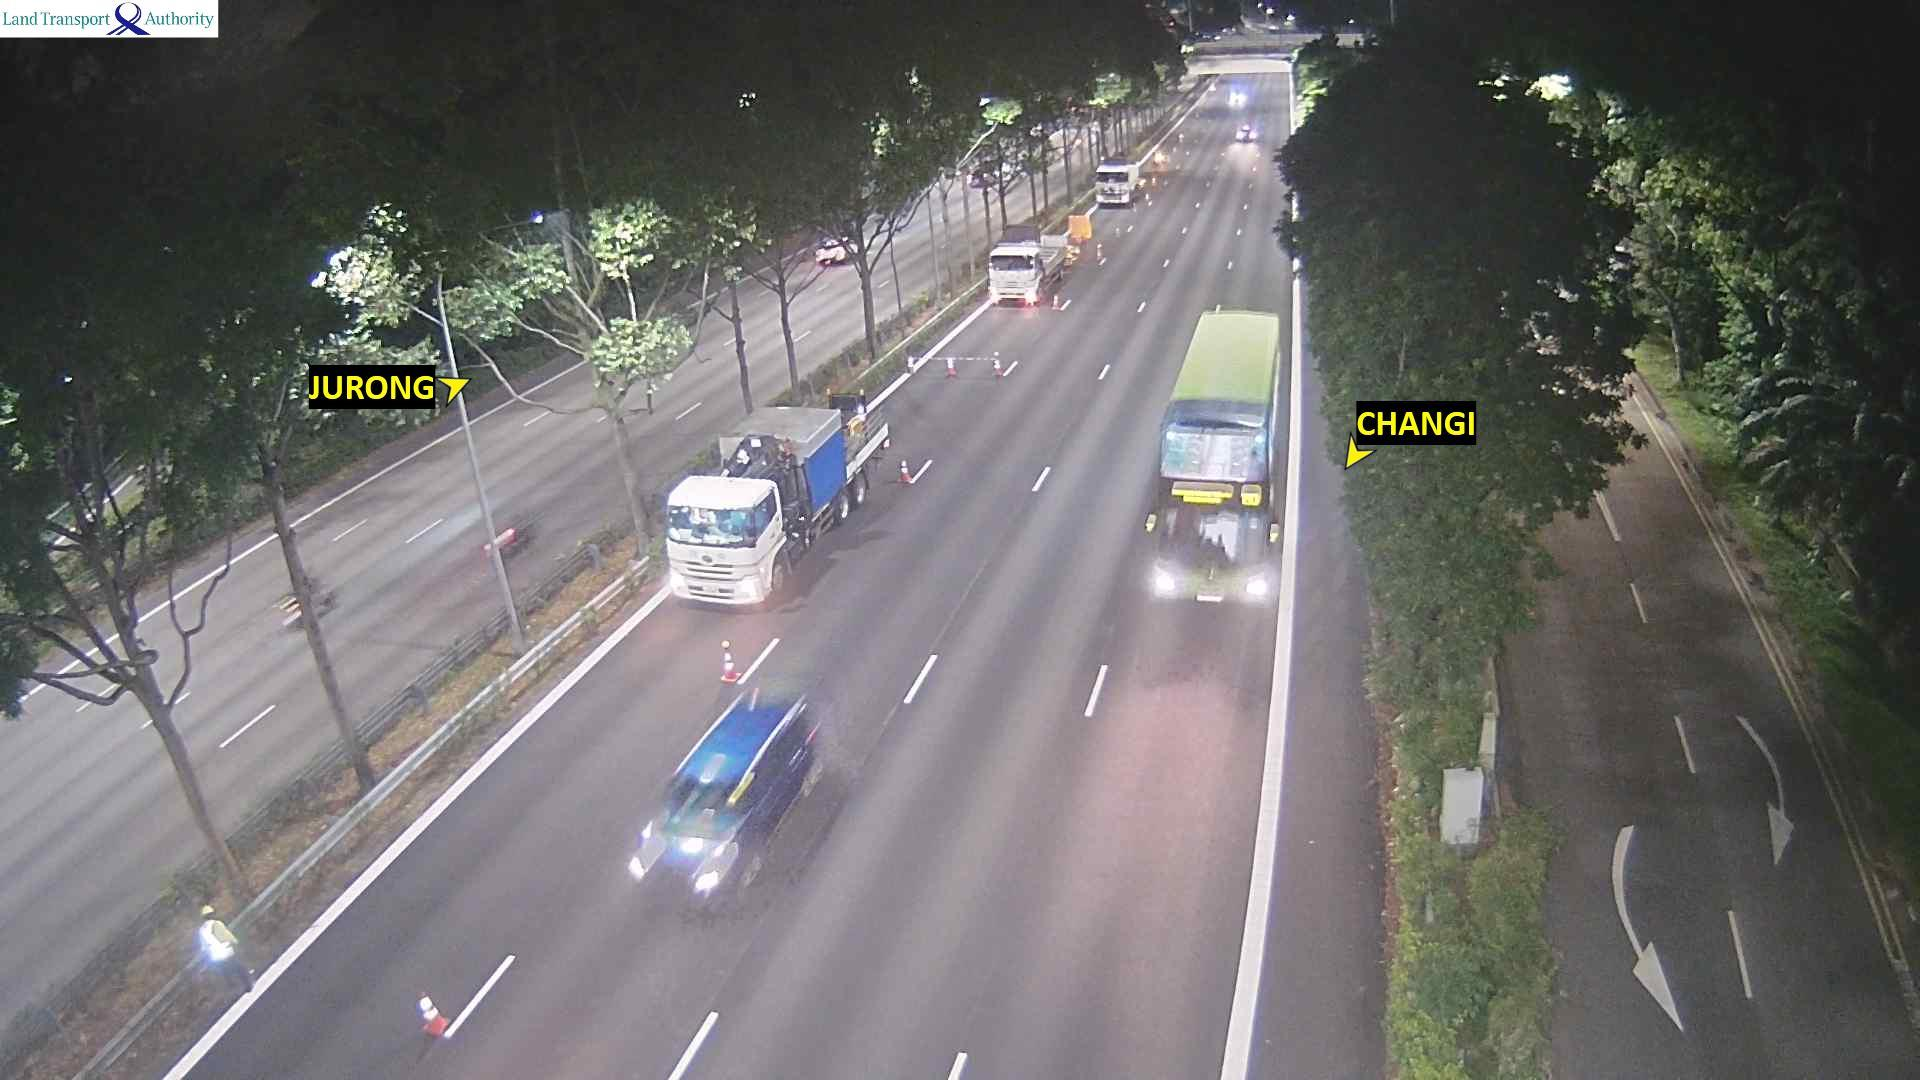incoming: (1143, 402, 1283, 615), (630, 770, 769, 915), (663, 497, 800, 615), (985, 251, 1046, 311), (1092, 167, 1138, 210), (1233, 120, 1261, 146), (1145, 401, 1149, 402)
